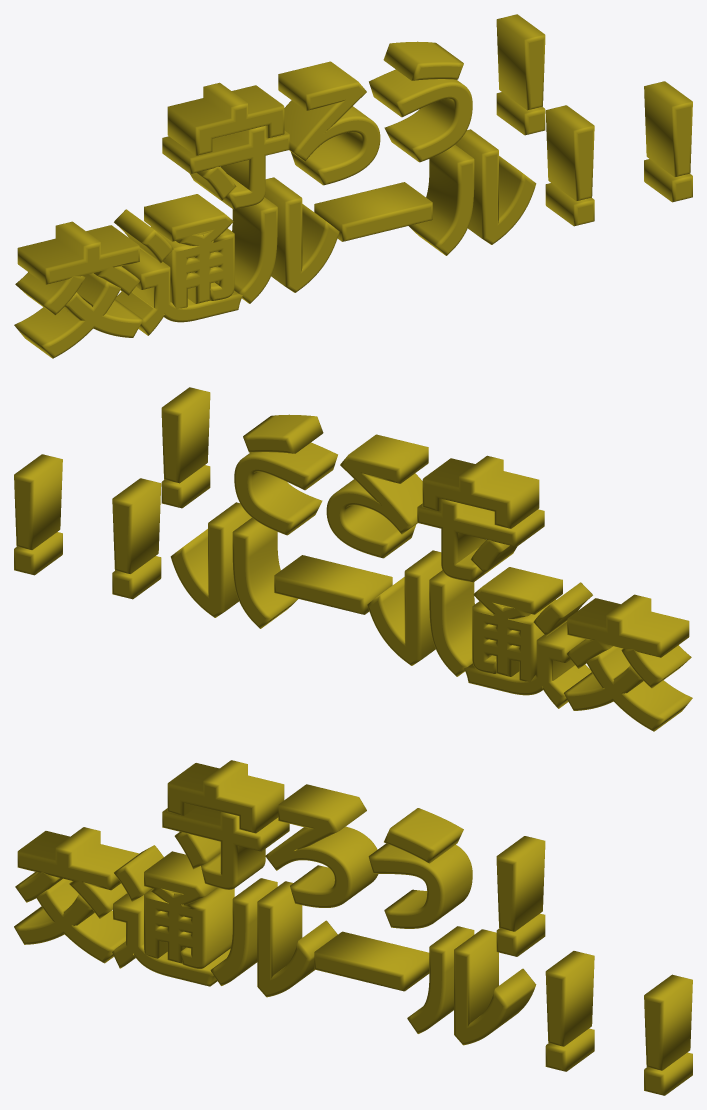
The model's file is trafficRules.glb.
The picture shows the model from 3 angles, top to bottom: view 1: azimuth 30°, elevation 25°; view 2: azimuth 150°, elevation 25°; view 3: azimuth 330°, elevation 25°; orthographic projection.
Visible parts, largest first — view 1: オブジェクト; view 2: オブジェクト; view 3: オブジェクト.
Boxes of the visible parts, x1,y1,x2,y2 form: オブジェクト: (14,14,692,358); オブジェクト: (14,387,692,731); オブジェクト: (14,760,692,1095).
Size of the model in its own units: 6.62 by 2.03 by 0.54.
